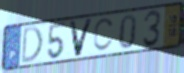0: (118, 13, 138, 50)
3: (142, 9, 162, 49)
5: (46, 21, 66, 62)
C: (92, 16, 116, 53)
D: (20, 24, 45, 66)
V: (68, 17, 95, 59)
